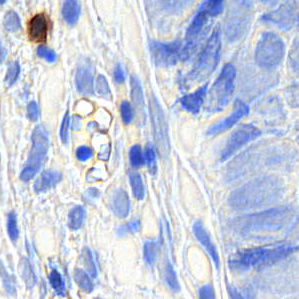Lymphocyte: (27, 12, 51, 43)
